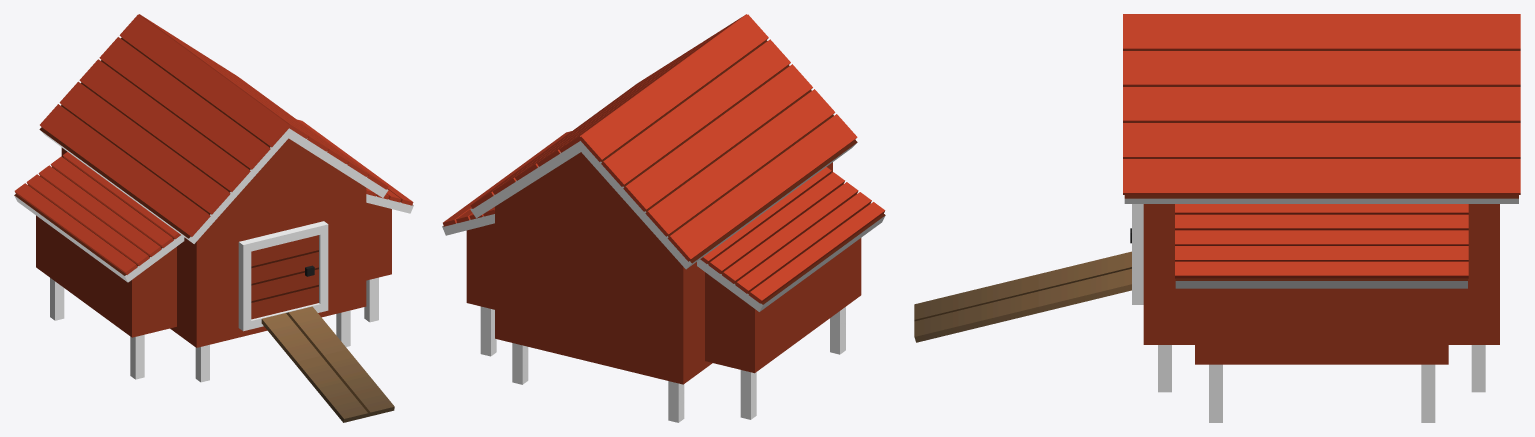
Rendered from SM_Props_ChickenCoop_02.obj.
3 renders of one model, left to right at view 1: azimuth 30°, elevation 25°; view 2: azimuth 150°, elevation 25°; view 3: azimuth 270°, elevation 25°, orthographic. The views are drawn at different scales.
Parts seen in each view (by area): view 1: SM_Props_ChickenCoop_02_Mat_SwatchOverlay_Farm_01_WoodRotated_In; view 2: SM_Props_ChickenCoop_02_Mat_SwatchOverlay_Farm_01_WoodRotated_In; view 3: SM_Props_ChickenCoop_02_Mat_SwatchOverlay_Farm_01_WoodRotated_In.
Part boxes in pixels (bbox=[...]): SM_Props_ChickenCoop_02_Mat_SwatchOverlay_Farm_01_WoodRotated_In: bbox=[14, 14, 413, 422]; SM_Props_ChickenCoop_02_Mat_SwatchOverlay_Farm_01_WoodRotated_In: bbox=[442, 14, 885, 422]; SM_Props_ChickenCoop_02_Mat_SwatchOverlay_Farm_01_WoodRotated_In: bbox=[914, 14, 1520, 422].
Bounding box in the file's own units: 2.05 × 1.69 × 2.82.
1 material, 1 textured.
